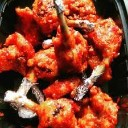chicken_lollipop: (80, 16, 122, 101), (52, 1, 89, 77), (2, 90, 76, 128), (1, 33, 59, 78), (13, 49, 57, 107)
